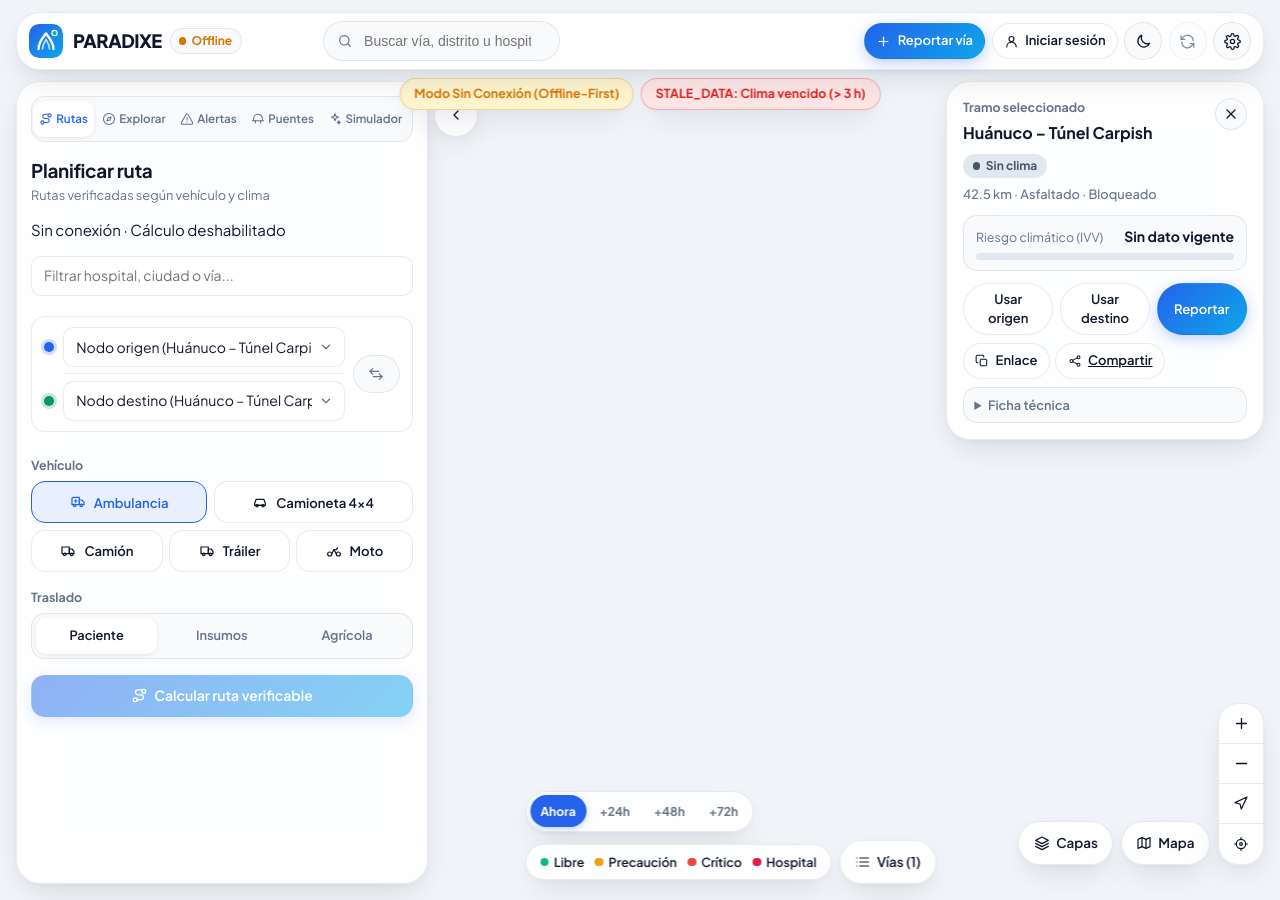
Test: UI Comercial, Fail-Safe y Accesibilidad PARADIXE SOFT › bloquea el calculo de rutas cuando esta offline y encola reporte en IndexedDB
Expected: the text "Modo Sin Conexión (Offline-First)" is shown, [414,84,619,103]
Expected: the button "Calcular ruta verificable" is disabled, [31,675,413,717]
Step 1. Click the button "Reportar vía" → (925, 41), box [864,23,985,59]
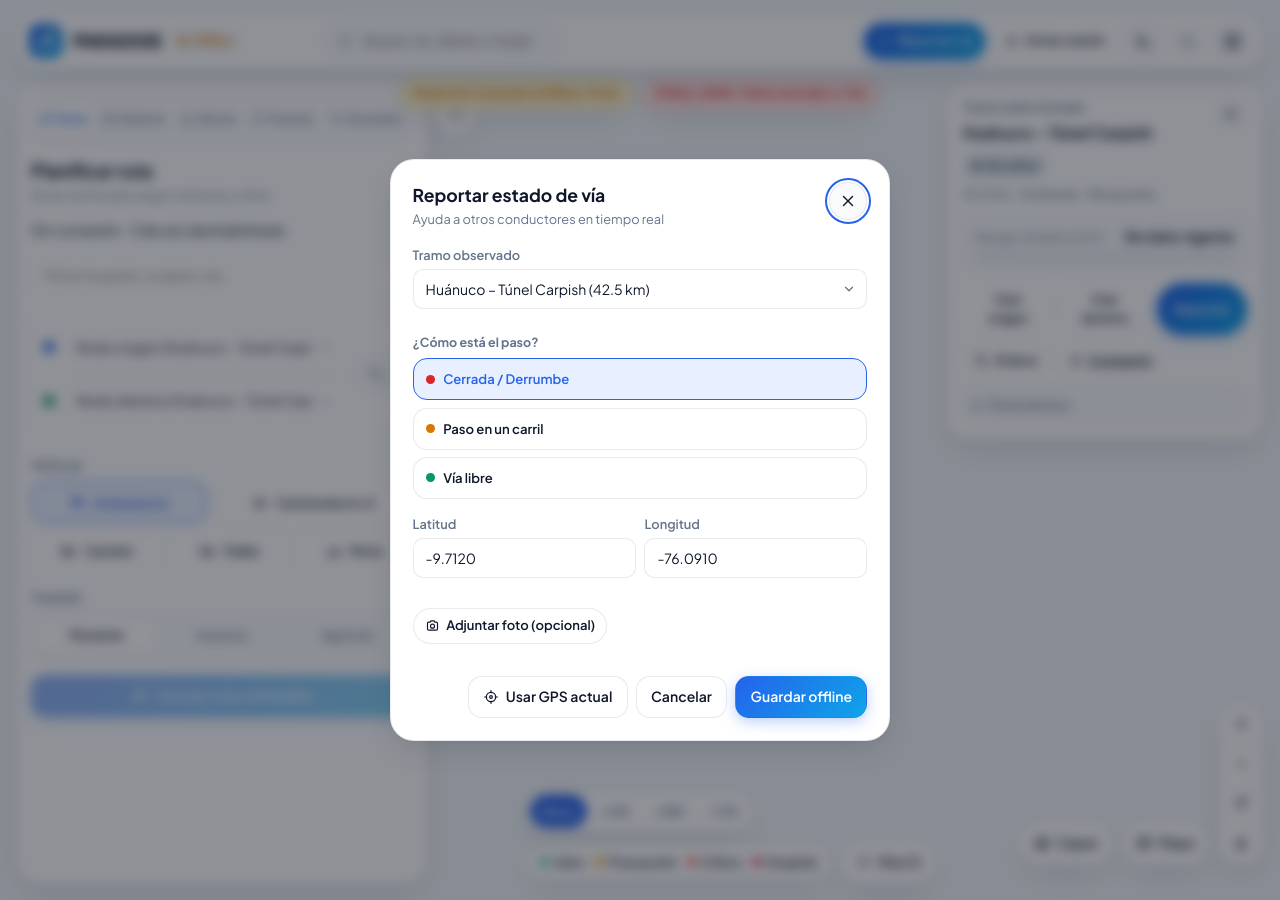
Step 2. Click the button "Guardar offline" → (801, 697), box [735,676,867,718]
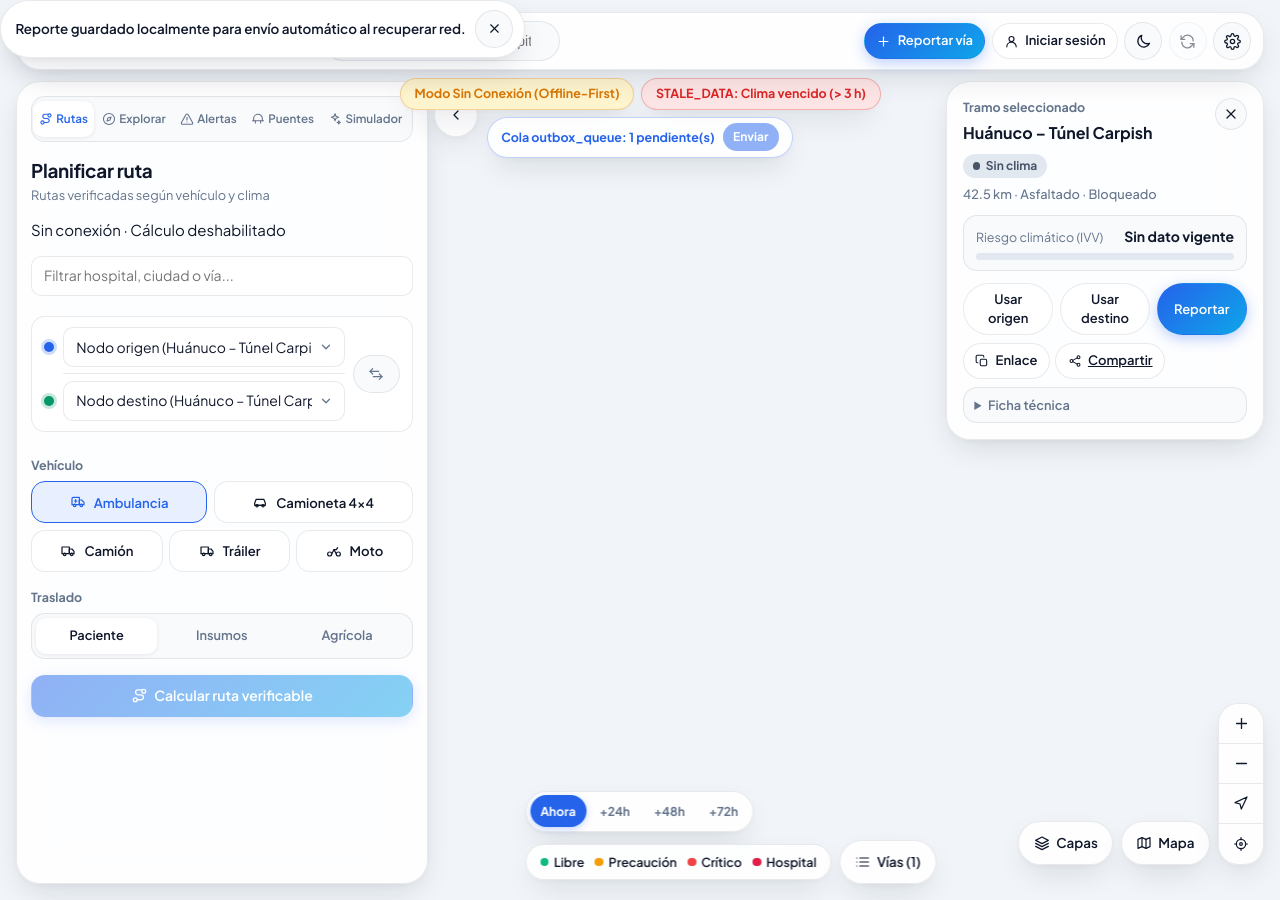
Expected: the text "Cola outbox_queue: 1 pendiente(s)" is shown, [501,128,715,147]
